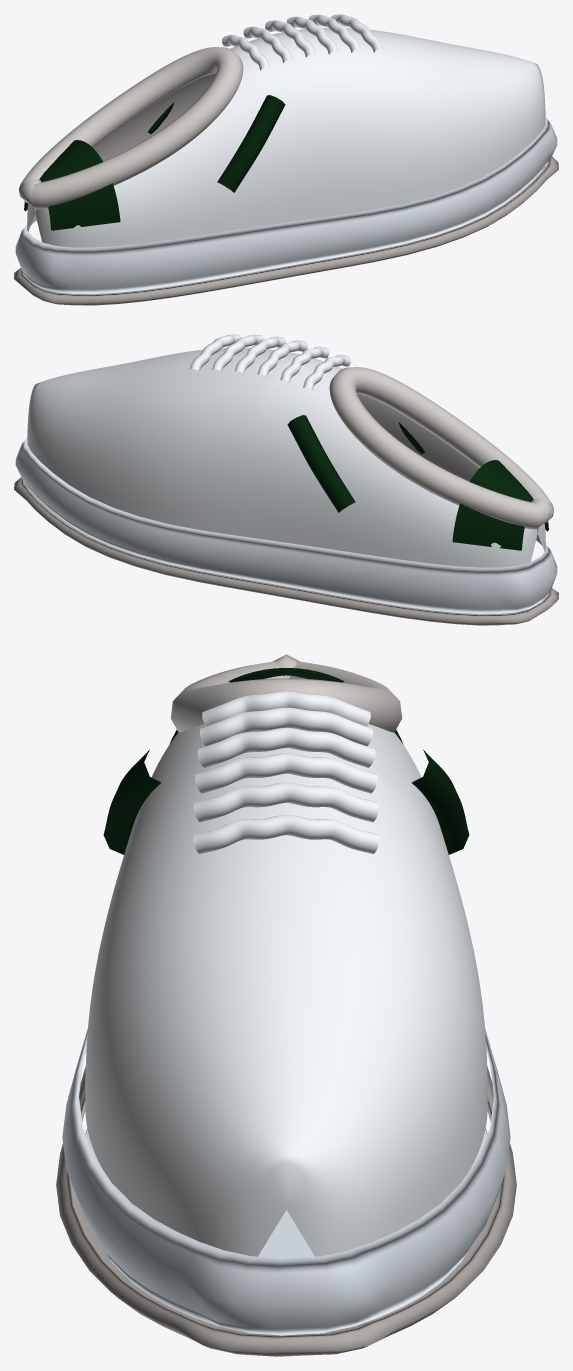
The model's file is court-classic-white.glb.
3 views of the same model, one above another, from view 1: azimuth 30°, elevation 25°; view 2: azimuth 150°, elevation 25°; view 3: azimuth 270°, elevation 25° (orthographic). The views are drawn at different scales.
Parts seen in each view (by area): view 1: upper, midsole, collar, outsole, laces, heel-panel, lining, side-stripe; view 2: upper, midsole, collar, outsole, laces, heel-panel, lining, side-stripe-medial; view 3: upper, midsole, laces, outsole, collar, side-stripe, side-stripe-medial, heel-panel.
Boxes of the visible parts, left/top/right/bottom form: upper: left=27, top=28, right=545, bottom=247; midsole: left=15, top=117, right=557, bottom=294; collar: left=19, top=47, right=243, bottom=209; outsole: left=14, top=156, right=558, bottom=305; laces: left=222, top=14, right=382, bottom=70; heel-panel: left=24, top=140, right=120, bottom=230; lining: left=31, top=73, right=215, bottom=224; side-stripe: left=217, top=95, right=285, bottom=192; upper: left=27, top=348, right=545, bottom=567; midsole: left=15, top=437, right=557, bottom=614; collar: left=329, top=367, right=553, bottom=529; outsole: left=14, top=477, right=558, bottom=625; laces: left=190, top=334, right=350, bottom=390; heel-panel: left=452, top=460, right=548, bottom=550; lining: left=357, top=393, right=541, bottom=544; side-stripe-medial: left=287, top=415, right=355, bottom=512; upper: left=85, top=724, right=487, bottom=1256; midsole: left=62, top=1028, right=510, bottom=1335; laces: left=193, top=691, right=379, bottom=853; outsole: left=56, top=1066, right=516, bottom=1356; collar: left=170, top=654, right=402, bottom=732; side-stripe: left=103, top=749, right=161, bottom=854; side-stripe-medial: left=411, top=749, right=469, bottom=854; heel-panel: left=169, top=668, right=403, bottom=744.
Bounding box in the file's own units: 0.2901 × 0.108 × 0.1105.
